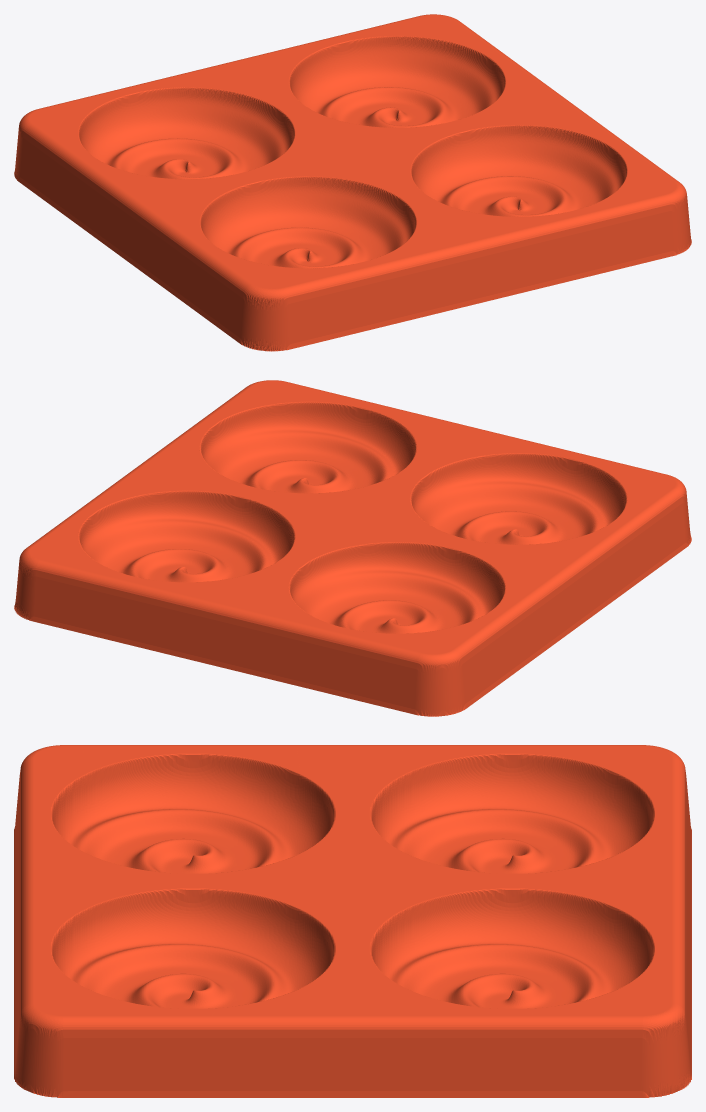
The model's file is mold.glb.
3 renders of one model, top to bottom at view 1: azimuth 30°, elevation 25°; view 2: azimuth 150°, elevation 25°; view 3: azimuth 270°, elevation 25°, orthographic. The views are drawn at different scales.
Parts seen in each view (by area): view 1: geometry_0; view 2: geometry_0; view 3: geometry_0.
Part boxes in pixels (x1,y1,x2,y2): geometry_0: [14, 14, 691, 351]; geometry_0: [14, 380, 691, 716]; geometry_0: [14, 745, 691, 1097].
Size of the model in its own units: 0.1225 by 0.0147 by 0.1225.
